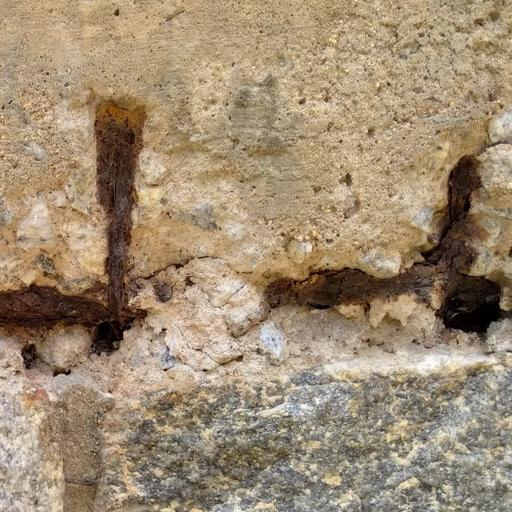spalling: (28, 44, 512, 375)
